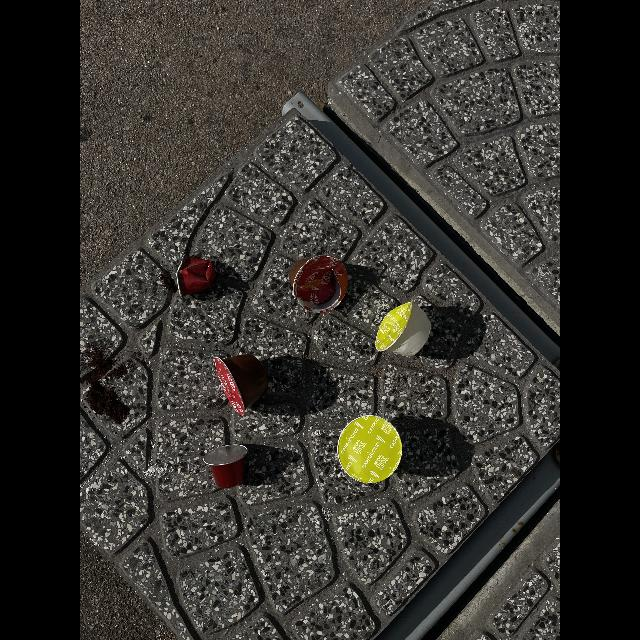damaged_capsule: (372, 298, 446, 364), (285, 252, 355, 321), (173, 252, 225, 302)
intact_capsule: (336, 415, 406, 487), (211, 351, 275, 419), (195, 440, 252, 492)
